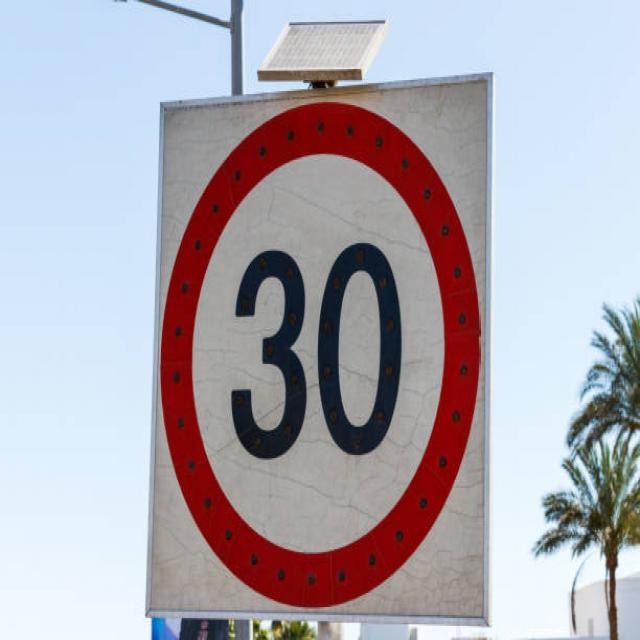speed_limit_30: (158, 102, 483, 603)
